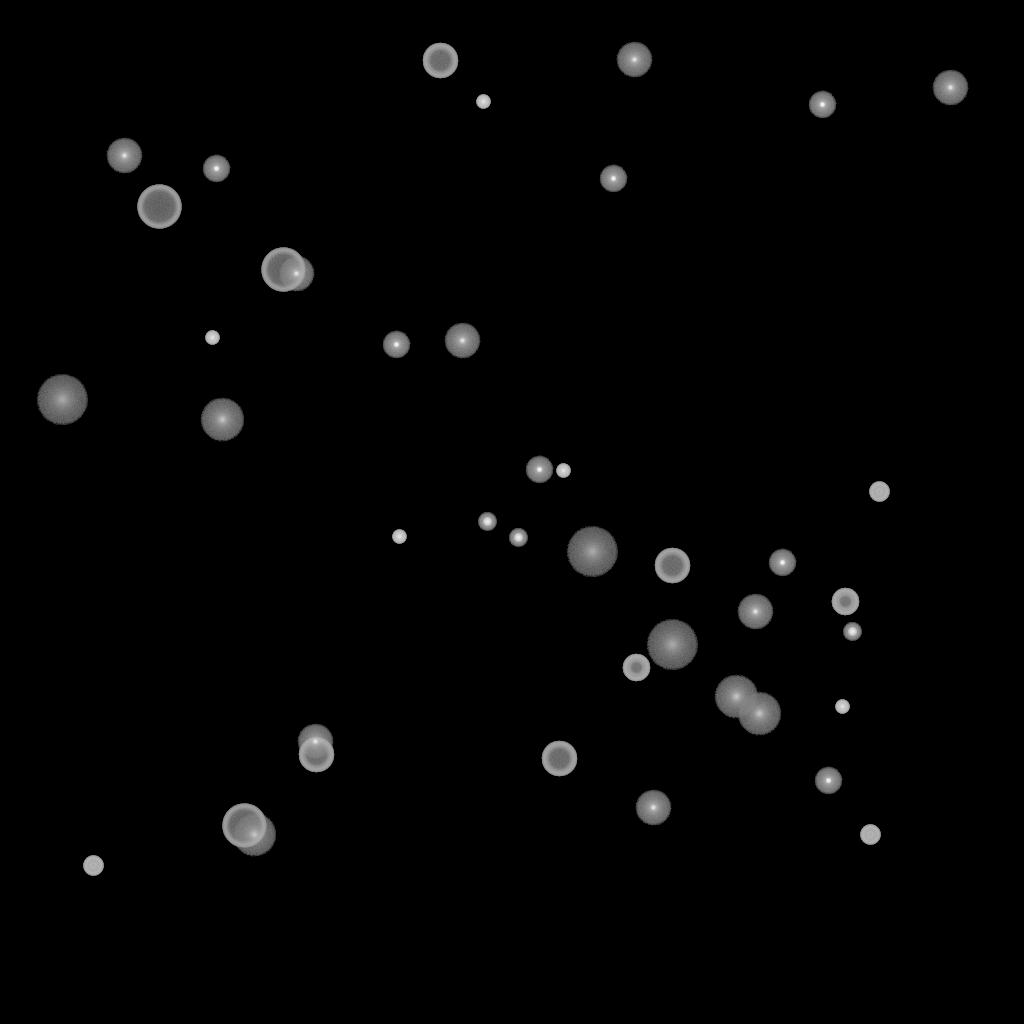depth:-10: (202, 155, 230, 183), (808, 91, 836, 119), (382, 331, 410, 359), (768, 549, 796, 577), (599, 165, 627, 193), (814, 767, 842, 795), (525, 456, 553, 484)
depth:-20: (509, 529, 527, 547), (843, 623, 861, 641), (478, 513, 496, 531)
depth:-30: (835, 700, 849, 714), (392, 530, 406, 544), (556, 464, 570, 478), (205, 331, 219, 345), (476, 95, 490, 109)
depth:-40: (860, 825, 880, 845), (869, 482, 889, 502), (83, 856, 103, 876)
depth:-50: (831, 588, 859, 616), (622, 654, 650, 682)
depth:-60: (541, 741, 577, 777), (422, 43, 458, 79), (298, 737, 334, 773), (654, 548, 690, 584)
depth:-70: (137, 185, 181, 229), (261, 248, 305, 292), (222, 804, 266, 848)
depth:0: (737, 594, 773, 630), (616, 42, 652, 78), (444, 323, 480, 359), (297, 724, 333, 760), (932, 70, 968, 106), (106, 138, 142, 174), (635, 790, 671, 826), (278, 256, 314, 292)
depth:10: (714, 675, 758, 719), (737, 692, 781, 736), (200, 398, 244, 442), (232, 813, 276, 857)
depth:20: (566, 527, 618, 577), (646, 620, 698, 670), (36, 375, 88, 425)
